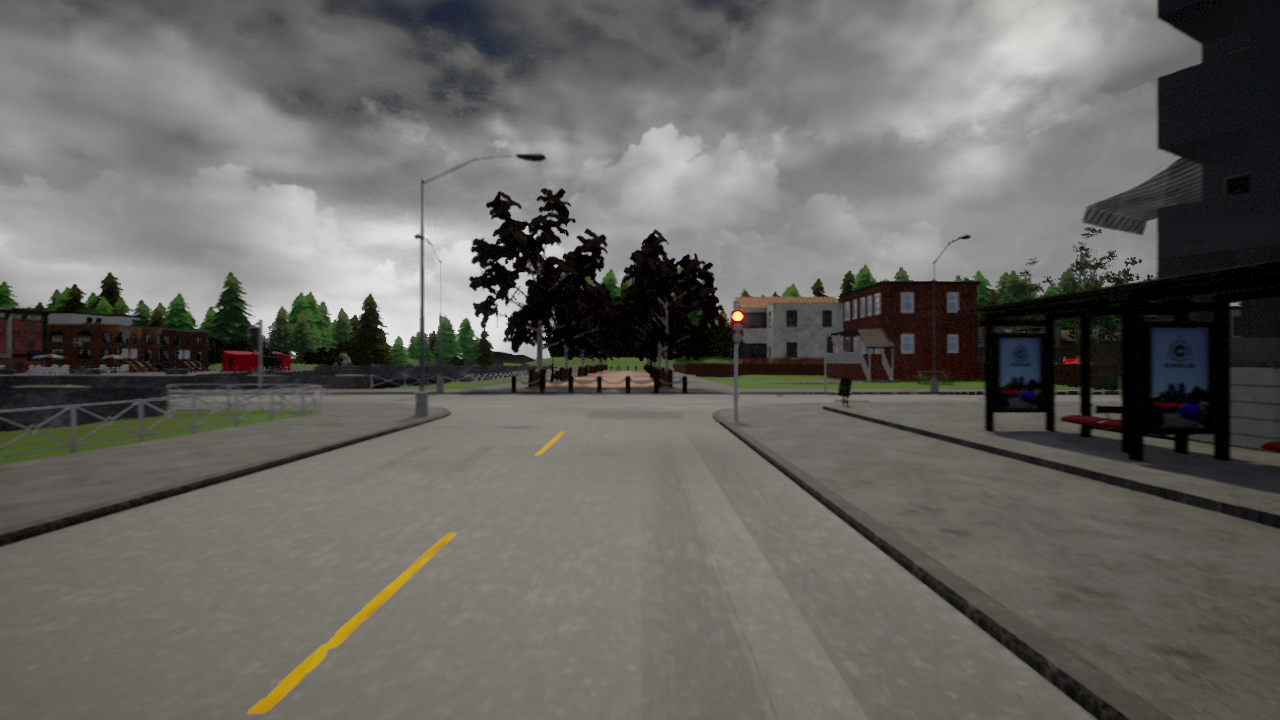red: (730, 308, 744, 344)
